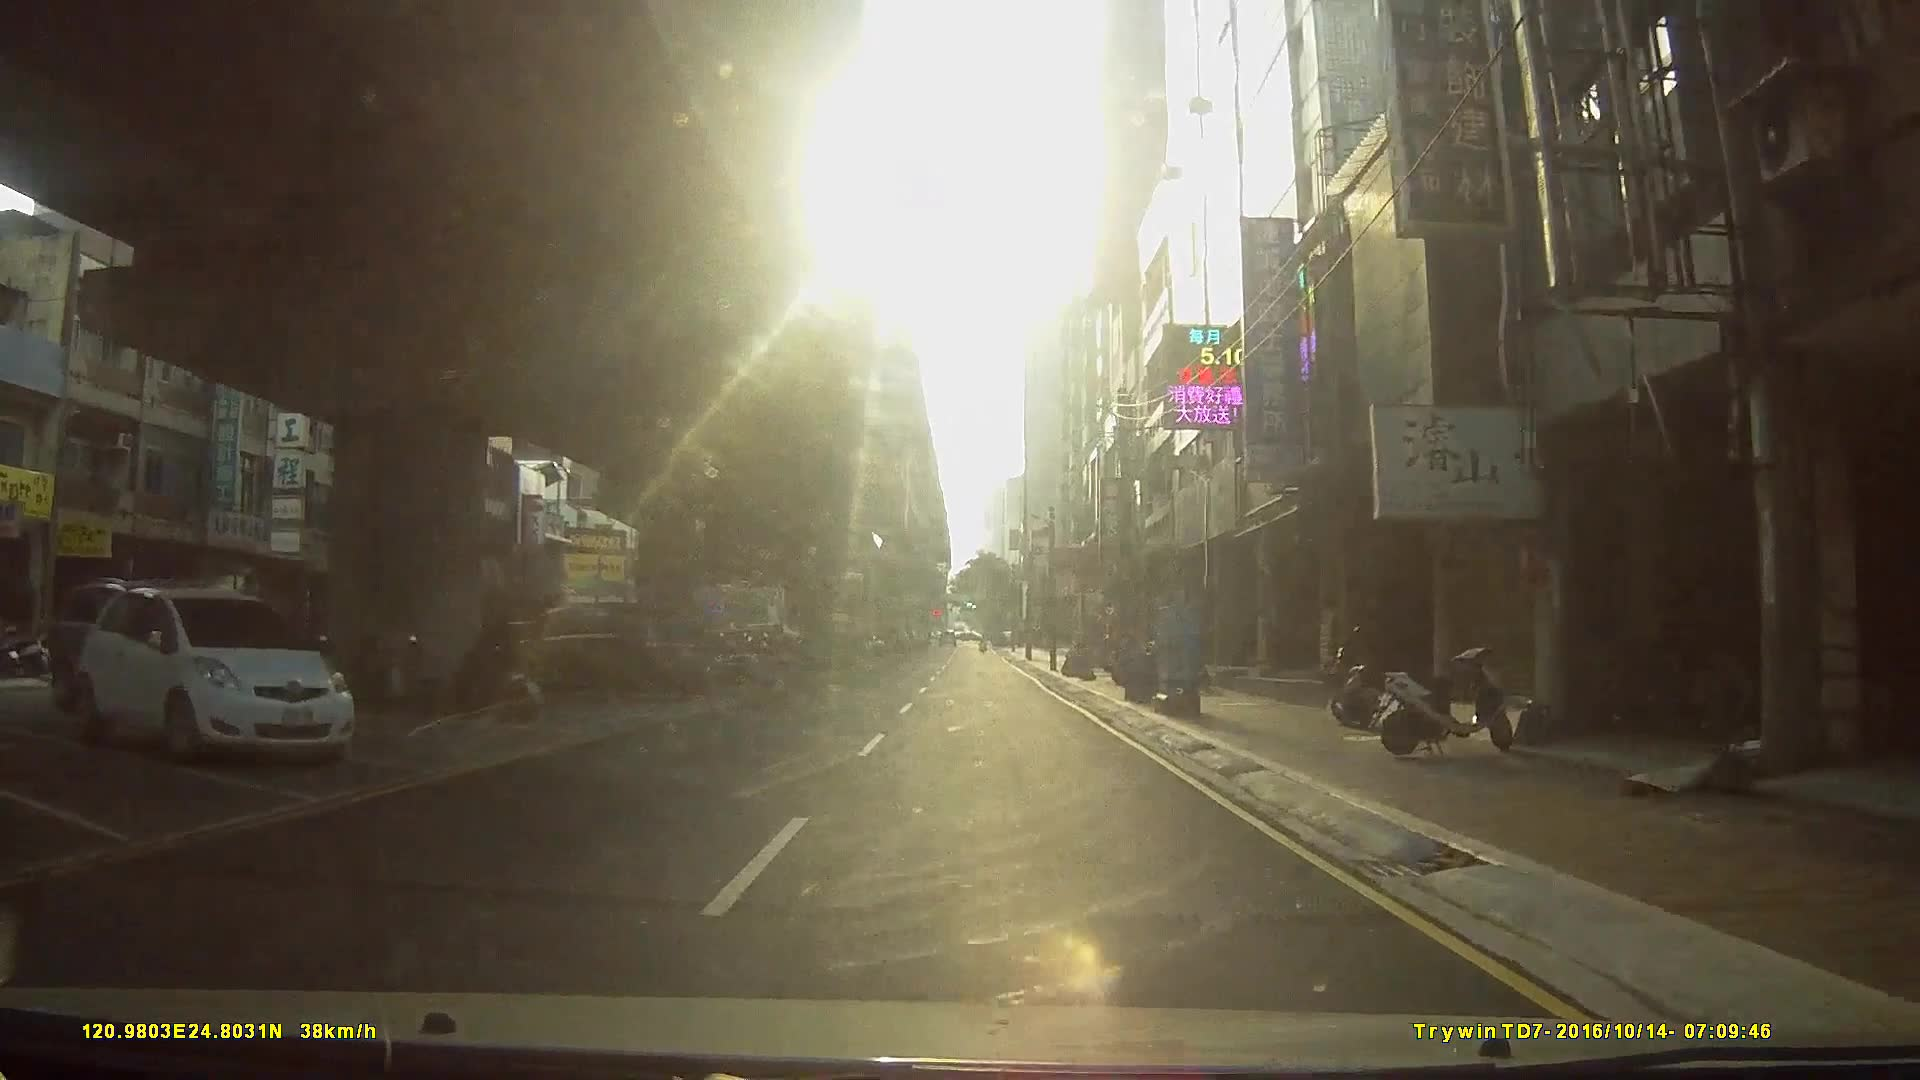vehicle: (66, 584, 349, 764), (44, 574, 211, 713), (498, 600, 712, 699)
